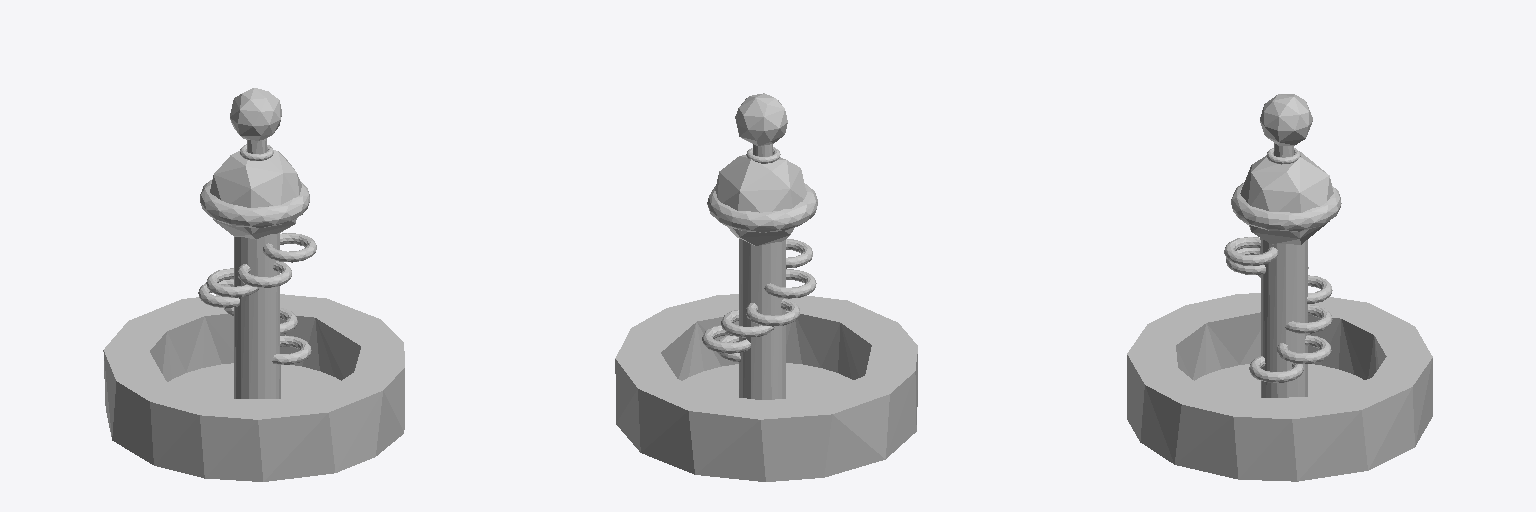
File: fountain.obj
3 renders of one model, left to right at view 1: azimuth 30°, elevation 25°; view 2: azimuth 150°, elevation 25°; view 3: azimuth 270°, elevation 25°, orthographic.
Size of the model in its own units: 2 by 2.37 by 2.02.